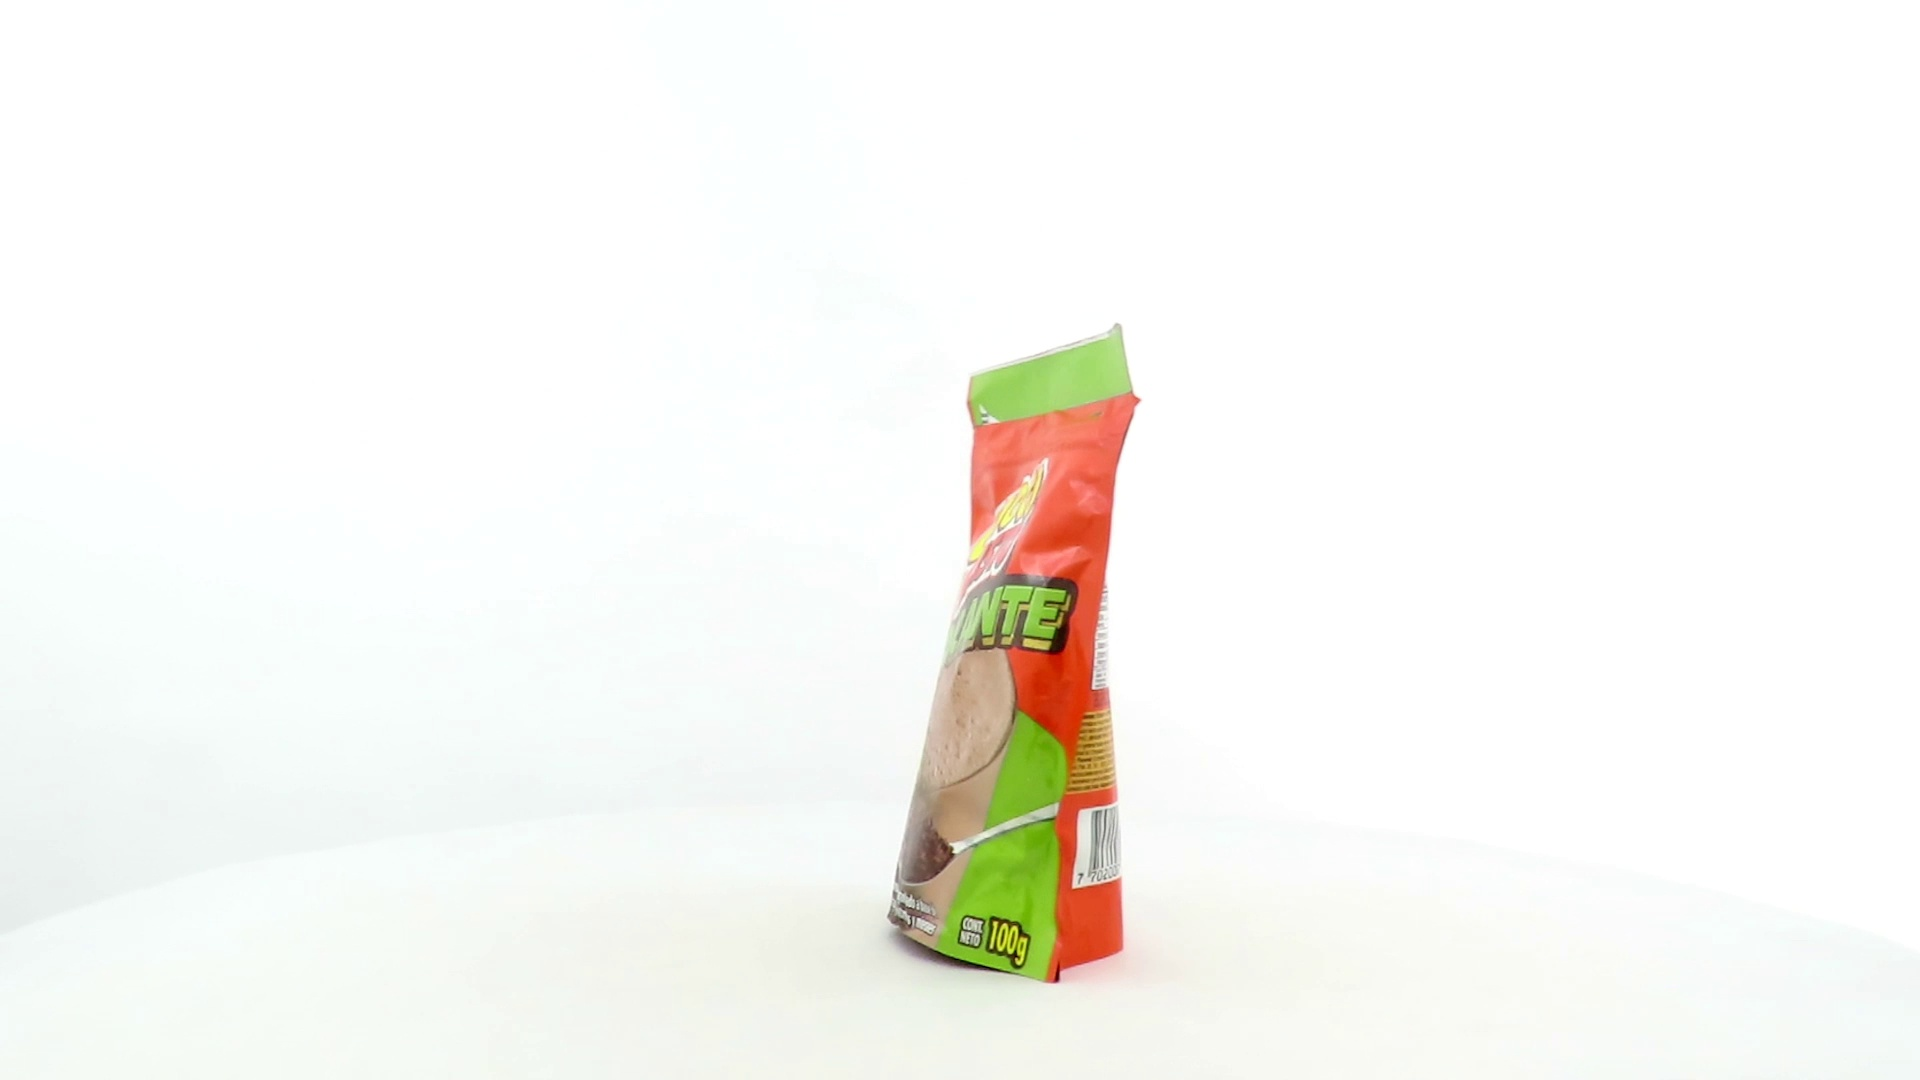COL0170102DYP10000: (882, 318, 1147, 990)
